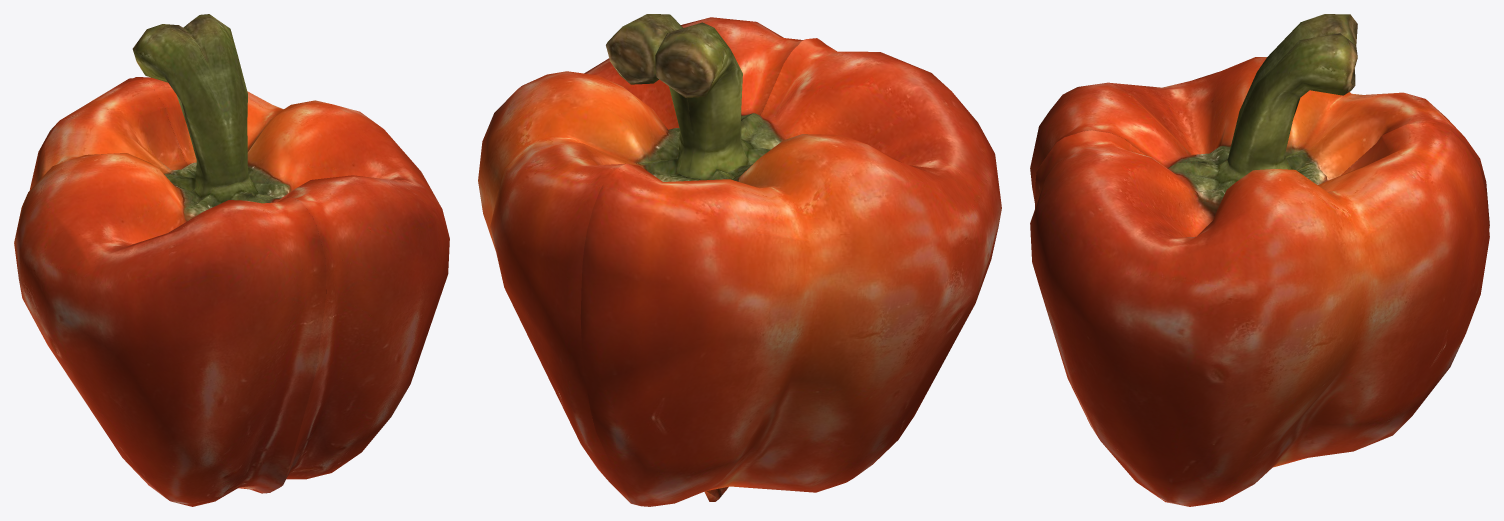
Rendered from Pepper.gltf.
3 renders of one model, left to right at view 1: azimuth 30°, elevation 25°; view 2: azimuth 150°, elevation 25°; view 3: azimuth 270°, elevation 25°, orthographic. The views are drawn at different scales.
Parts seen in each view (by area): view 1: Pepper_Left, Pepper_Right; view 2: Pepper_Left, Pepper_Right; view 3: Pepper_Right, Pepper_Left.
Part boxes in pixels (<box>): Pepper_Left: <box>14,24,326,506</box>; Pepper_Right: <box>134,14,449,493</box>; Pepper_Left: <box>580,22,1001,506</box>; Pepper_Right: <box>478,14,813,506</box>; Pepper_Right: <box>1030,33,1489,506</box>; Pepper_Left: <box>1030,14,1489,228</box>.
Size of the model in its own units: 1.06 by 1.13 by 1.02.
1 material, 1 textured.
